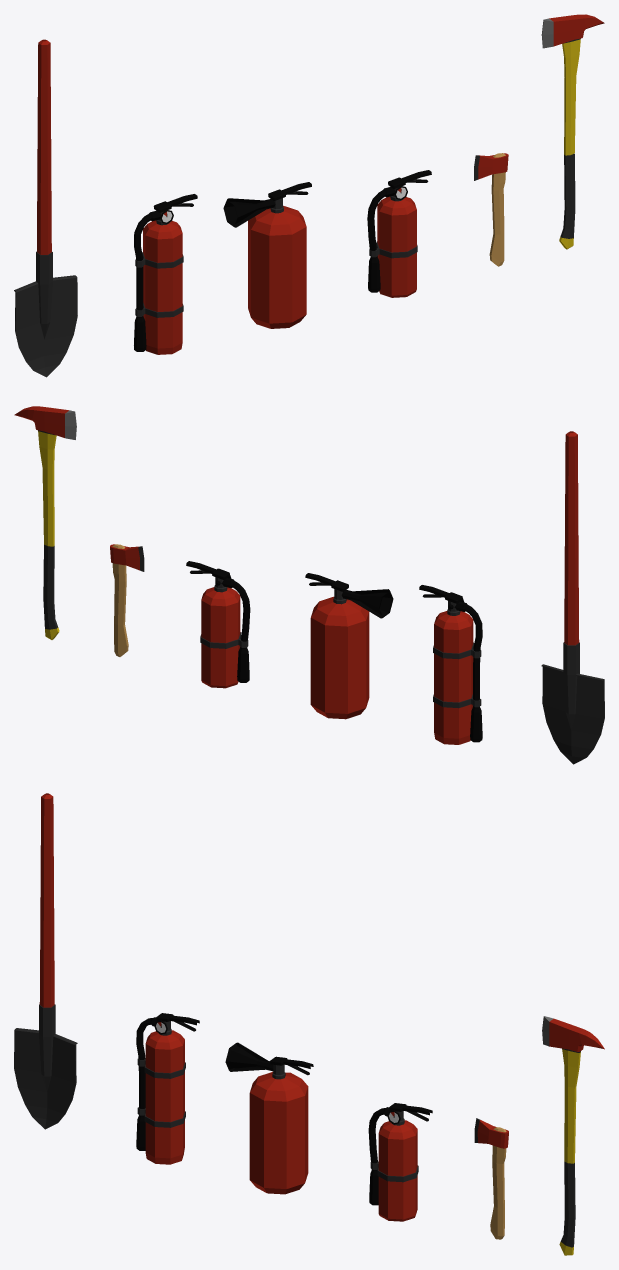
File: extinguishers.fbx
3 views of the same model, one above another, from view 1: azimuth 30°, elevation 25°; view 2: azimuth 150°, elevation 25°; view 3: azimuth 330°, elevation 25° (orthographic).
Visible parts, largest first — view 1: shovel, fire extinguisher 2, fire extinguisher 3, fire extinguisher 1, axe_long, axe_short; view 2: shovel, fire extinguisher 2, fire extinguisher 3, fire extinguisher 1, axe_long, axe_short; view 3: shovel, fire extinguisher 2, fire extinguisher 3, fire extinguisher 1, axe_long, axe_short.
Part boxes in pixels (bbox=[...]): shovel: bbox=[14, 39, 77, 377]; fire extinguisher 2: bbox=[223, 182, 311, 328]; fire extinguisher 3: bbox=[134, 194, 197, 354]; fire extinguisher 1: bbox=[367, 170, 431, 297]; axe_long: bbox=[541, 14, 604, 249]; axe_short: bbox=[474, 153, 508, 266]; shovel: bbox=[541, 431, 604, 764]; fire extinguisher 2: bbox=[305, 573, 393, 719]; fire extinguisher 3: bbox=[419, 585, 482, 744]; fire extinguisher 1: bbox=[186, 561, 250, 688]; axe_long: bbox=[14, 406, 76, 639]; axe_short: bbox=[110, 544, 144, 656]; shovel: bbox=[14, 793, 77, 1129]; fire extinguisher 2: bbox=[225, 1042, 313, 1194]; fire extinguisher 3: bbox=[136, 1013, 199, 1164]; fire extinguisher 1: bbox=[368, 1103, 432, 1221]; axe_long: bbox=[542, 1016, 604, 1255]; axe_short: bbox=[474, 1118, 508, 1239].
Bounding box in the file's own units: 427 × 231 × 37.95.
